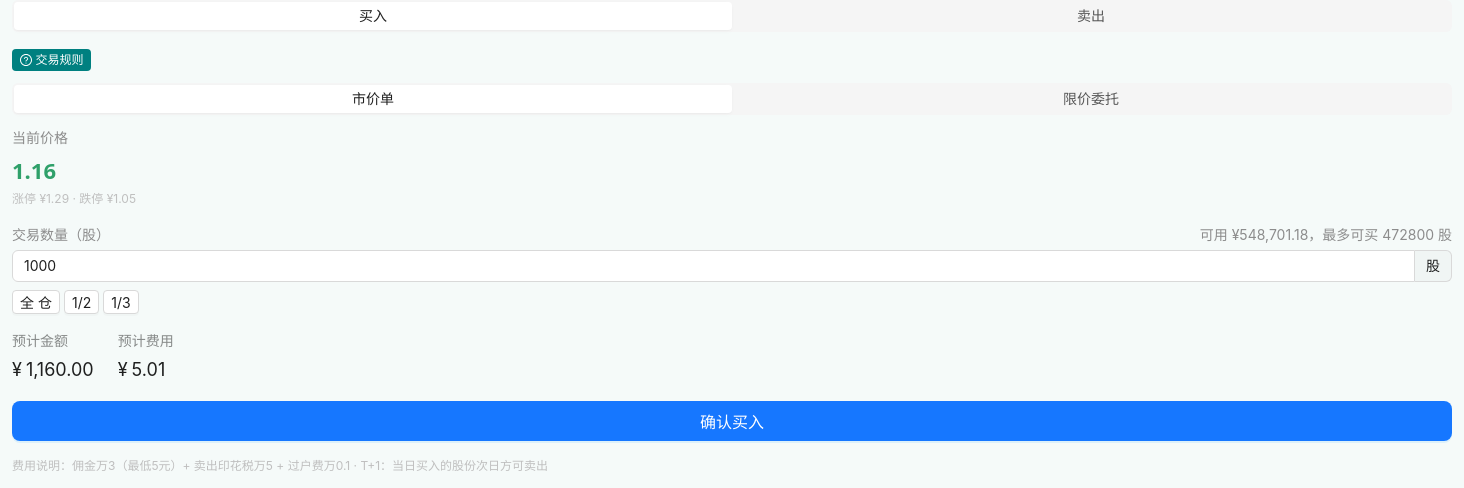
F-31 资金不足提示（P0） › P1 无 need/cash 的普通错误仍走原文案，不误报差额
The image size is (1464, 488).
Step 1. Click the button with test id "trade-submit" → (732, 421), box [12,401,1452,441]
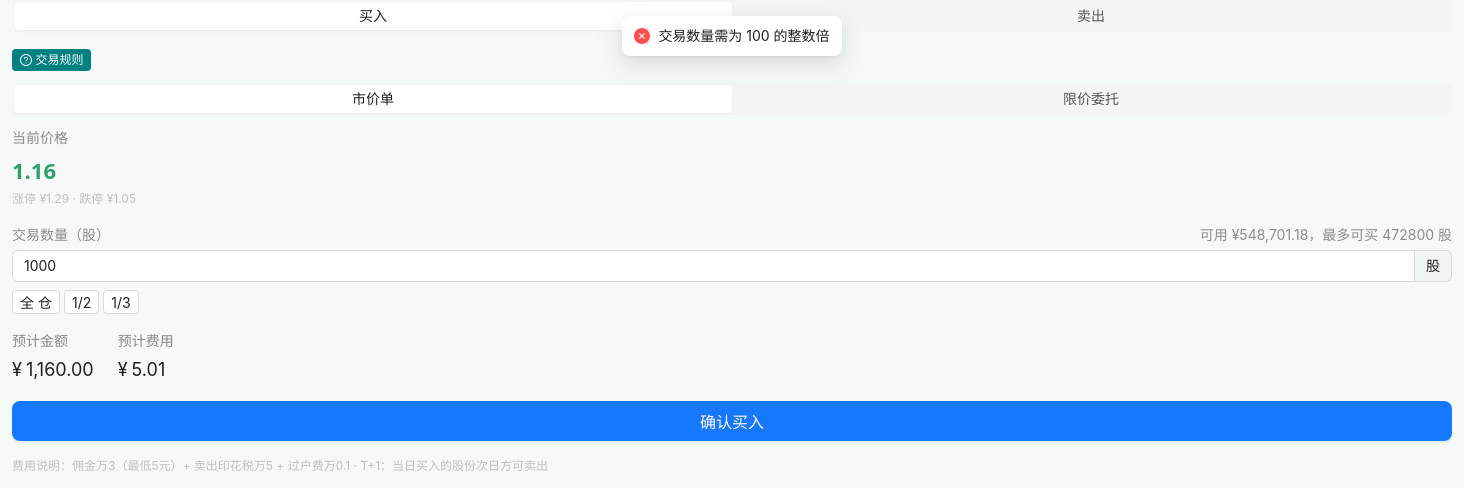
Expected: the text "交易数量需为 100 的整数倍" is shown, [658,25,830,47]
